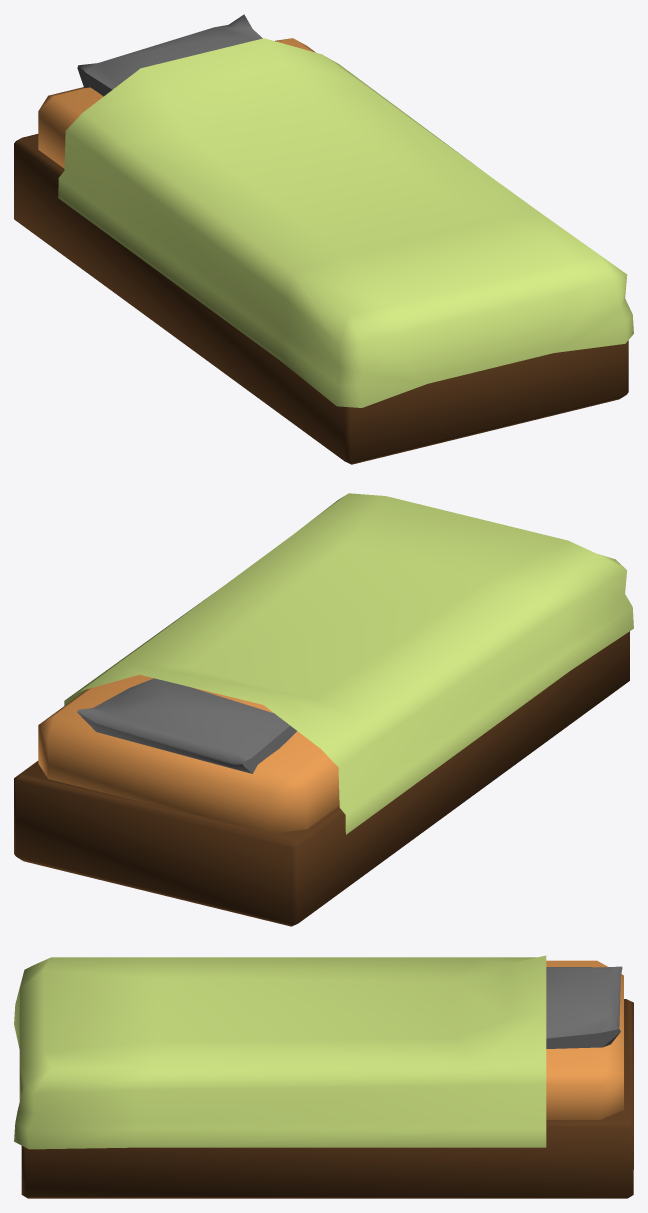
3 renders of one model, top to bottom at view 1: azimuth 30°, elevation 25°; view 2: azimuth 150°, elevation 25°; view 3: azimuth 270°, elevation 25°, orthographic. The views are drawn at different scales.
Visible parts, largest first — view 1: bed_003; view 2: bed_003; view 3: bed_003.
Part boxes in pixels (x1=…): bed_003: x1=14, y1=14, x2=633, y2=464; bed_003: x1=14, y1=493, x2=633, y2=926; bed_003: x1=14, y1=955, x2=633, y2=1198.
Size of the model in its own units: 1.08 by 0.5934 by 2.13.
